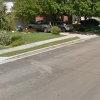Tree: (11, 0, 100, 34)
